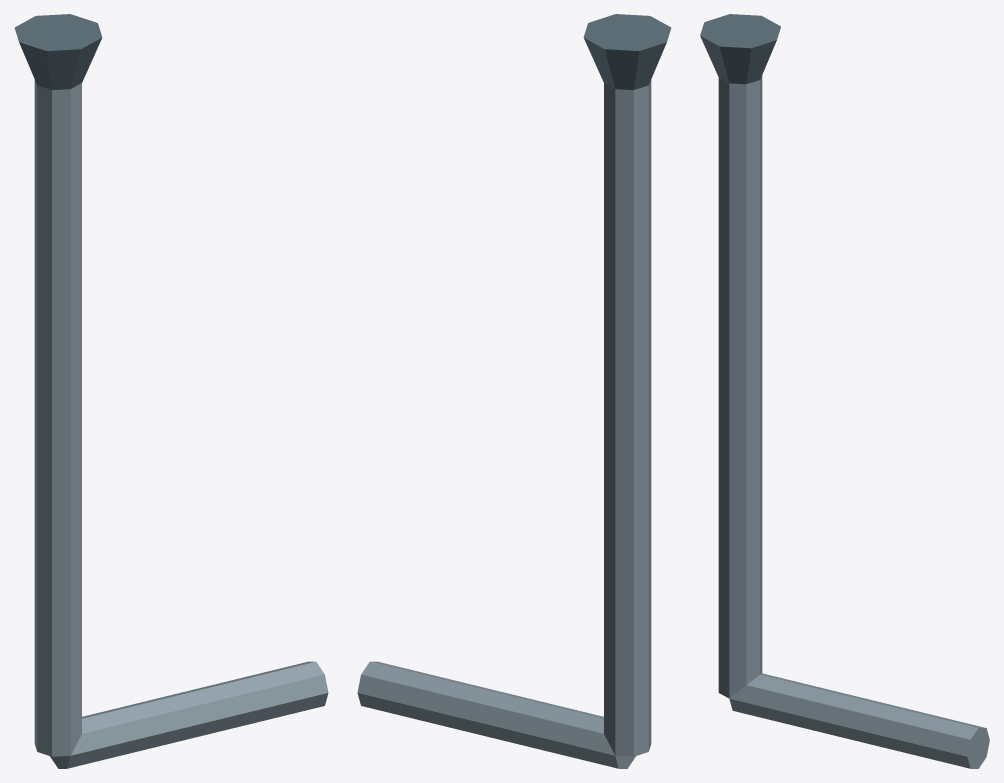
Rendered from school-pipe.glb.
3 views of the same model, side by side, from view 1: azimuth 30°, elevation 25°; view 2: azimuth 150°, elevation 25°; view 3: azimuth 330°, elevation 25° (orthographic). The views are drawn at different scales.
Visible parts, largest first — view 1: school-pipe; view 2: school-pipe; view 3: school-pipe.
Boxes of the visible parts, x1,y1,x2,y2 form: school-pipe: [14, 14, 328, 768]; school-pipe: [357, 14, 671, 768]; school-pipe: [700, 14, 989, 768].
Size of the model in its own units: 0.98 by 2.32 by 0.26.
